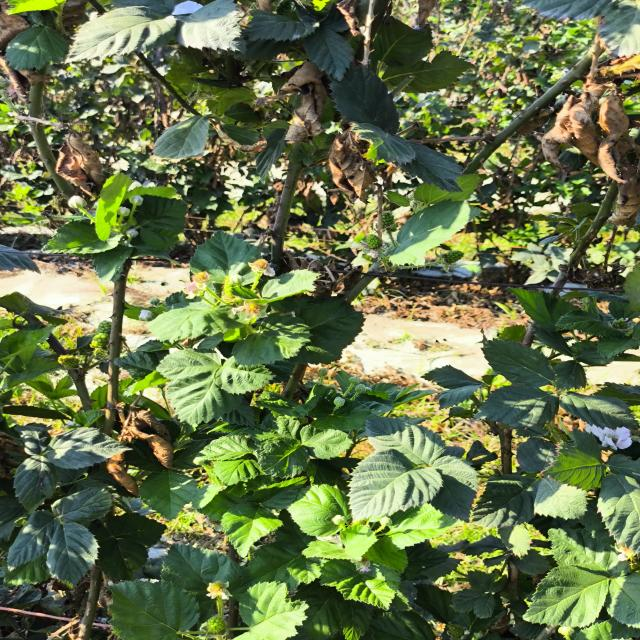boton: (138, 309, 154, 321), (229, 274, 241, 284), (333, 397, 345, 407), (355, 384, 368, 393), (149, 297, 160, 306), (317, 368, 328, 376), (350, 376, 360, 384)
